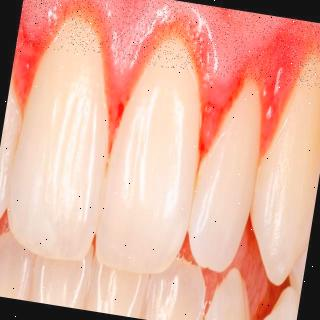Gum Swelling: (22, 0, 307, 137)
